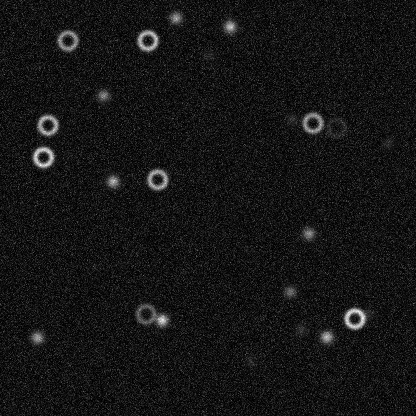Ring: (324, 115, 348, 139), (55, 28, 79, 52), (145, 167, 169, 191), (300, 110, 324, 134), (342, 306, 366, 330), (135, 28, 159, 52), (35, 112, 59, 136), (31, 145, 55, 169), (133, 301, 157, 325)
Spot: (284, 111, 300, 127), (242, 352, 258, 368), (95, 87, 111, 103), (167, 9, 183, 25), (358, 305, 374, 321), (281, 283, 297, 299), (104, 173, 120, 189), (292, 321, 308, 337), (300, 225, 316, 241), (153, 312, 169, 328), (380, 134, 396, 150), (200, 47, 216, 63), (29, 329, 45, 345), (318, 329, 334, 345), (221, 18, 237, 34)
